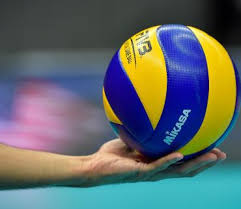ball: (102, 22, 241, 163)
